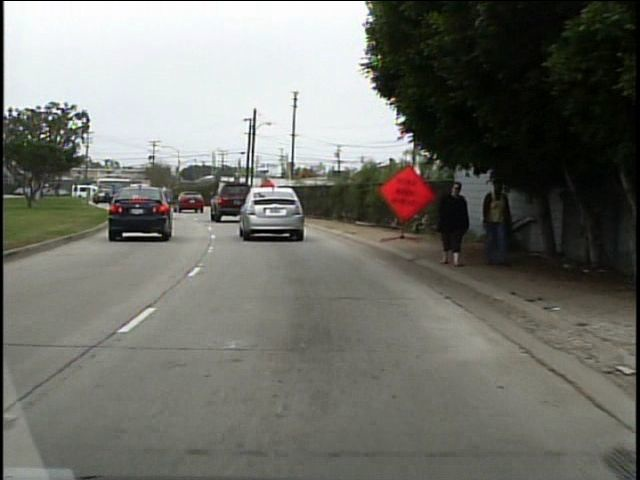person: (475, 171, 516, 272), (430, 177, 473, 268)
